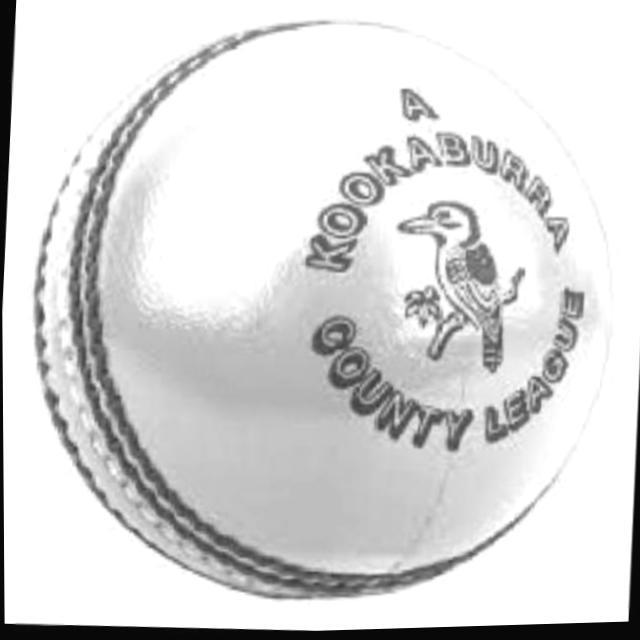-: (11, 10, 640, 627)
